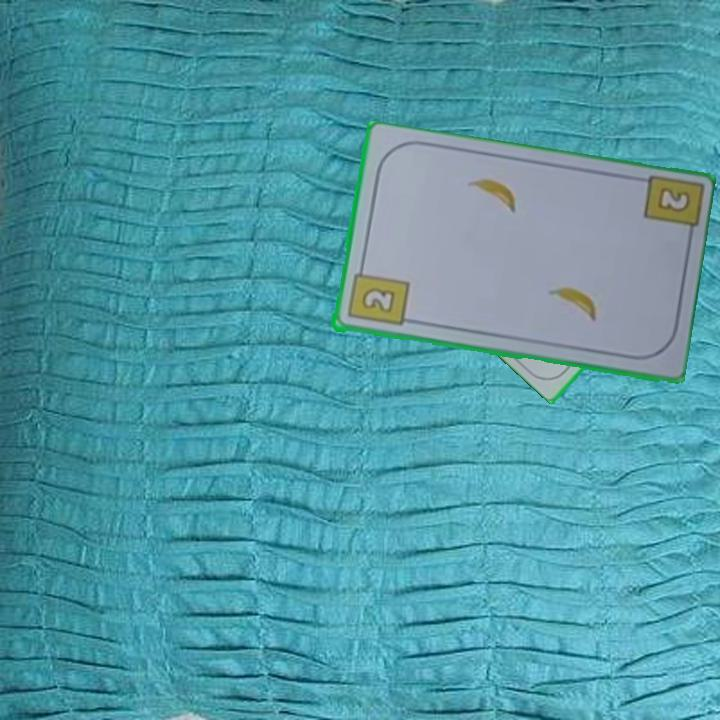2b: (343, 261, 411, 329), (657, 187, 690, 213)
